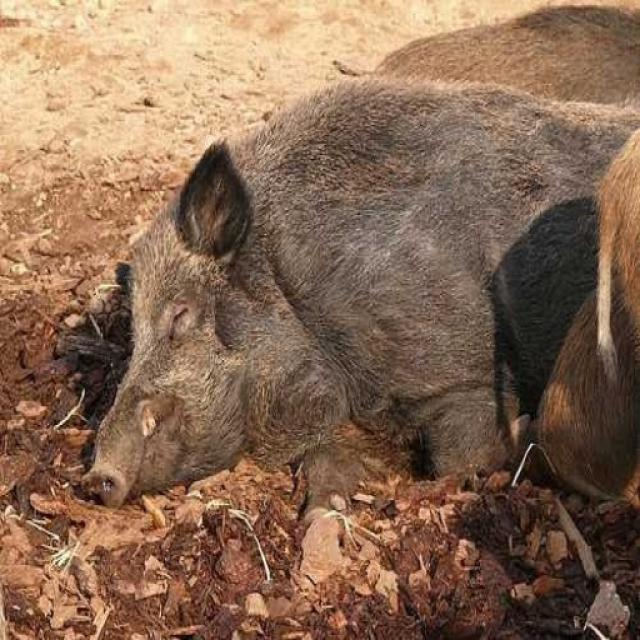pig: (80, 61, 640, 530)
